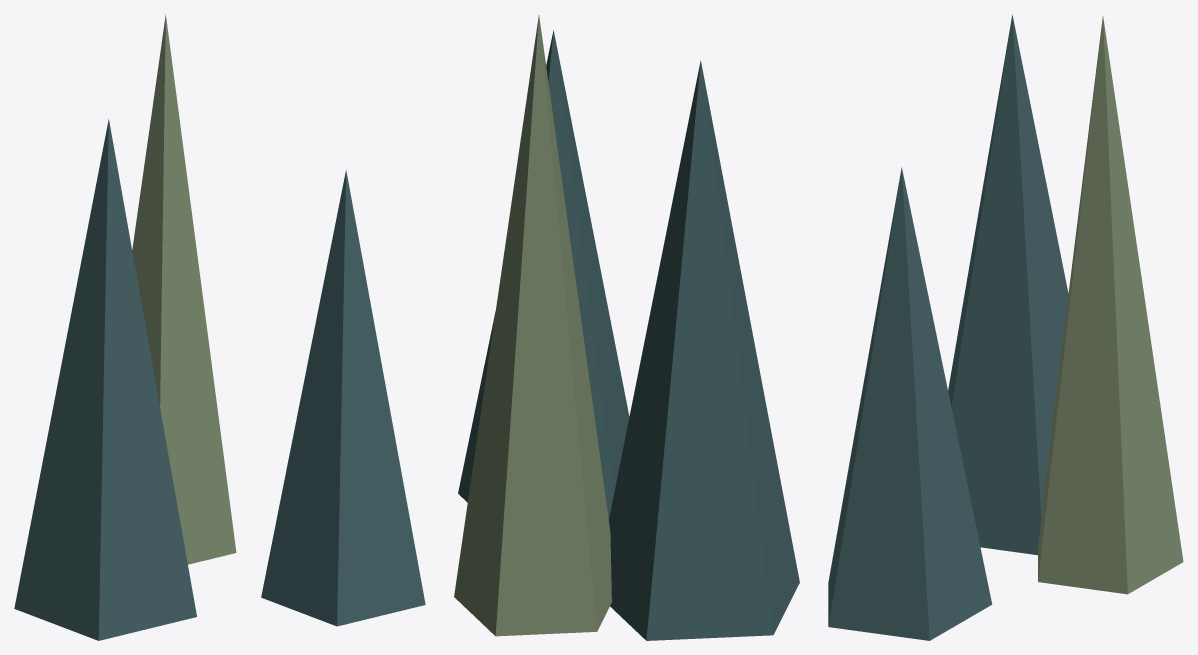
The model's file is env_grass_tuft_01.glb.
3 views of the same model, side by side, from view 1: azimuth 30°, elevation 25°; view 2: azimuth 150°, elevation 25°; view 3: azimuth 270°, elevation 25° (orthographic). The views are drawn at different scales.
Visible parts, largest first — view 1: env_grass_tuft_01; view 2: env_grass_tuft_01; view 3: env_grass_tuft_01.
Part boxes in pixels (x1=…): env_grass_tuft_01: x1=14, y1=14, x2=425, y2=640; env_grass_tuft_01: x1=454, y1=15, x2=799, y2=640; env_grass_tuft_01: x1=828, y1=14, x2=1183, y2=640.
Size of the model in its own units: 0.4007 by 0.605 by 0.3528.
